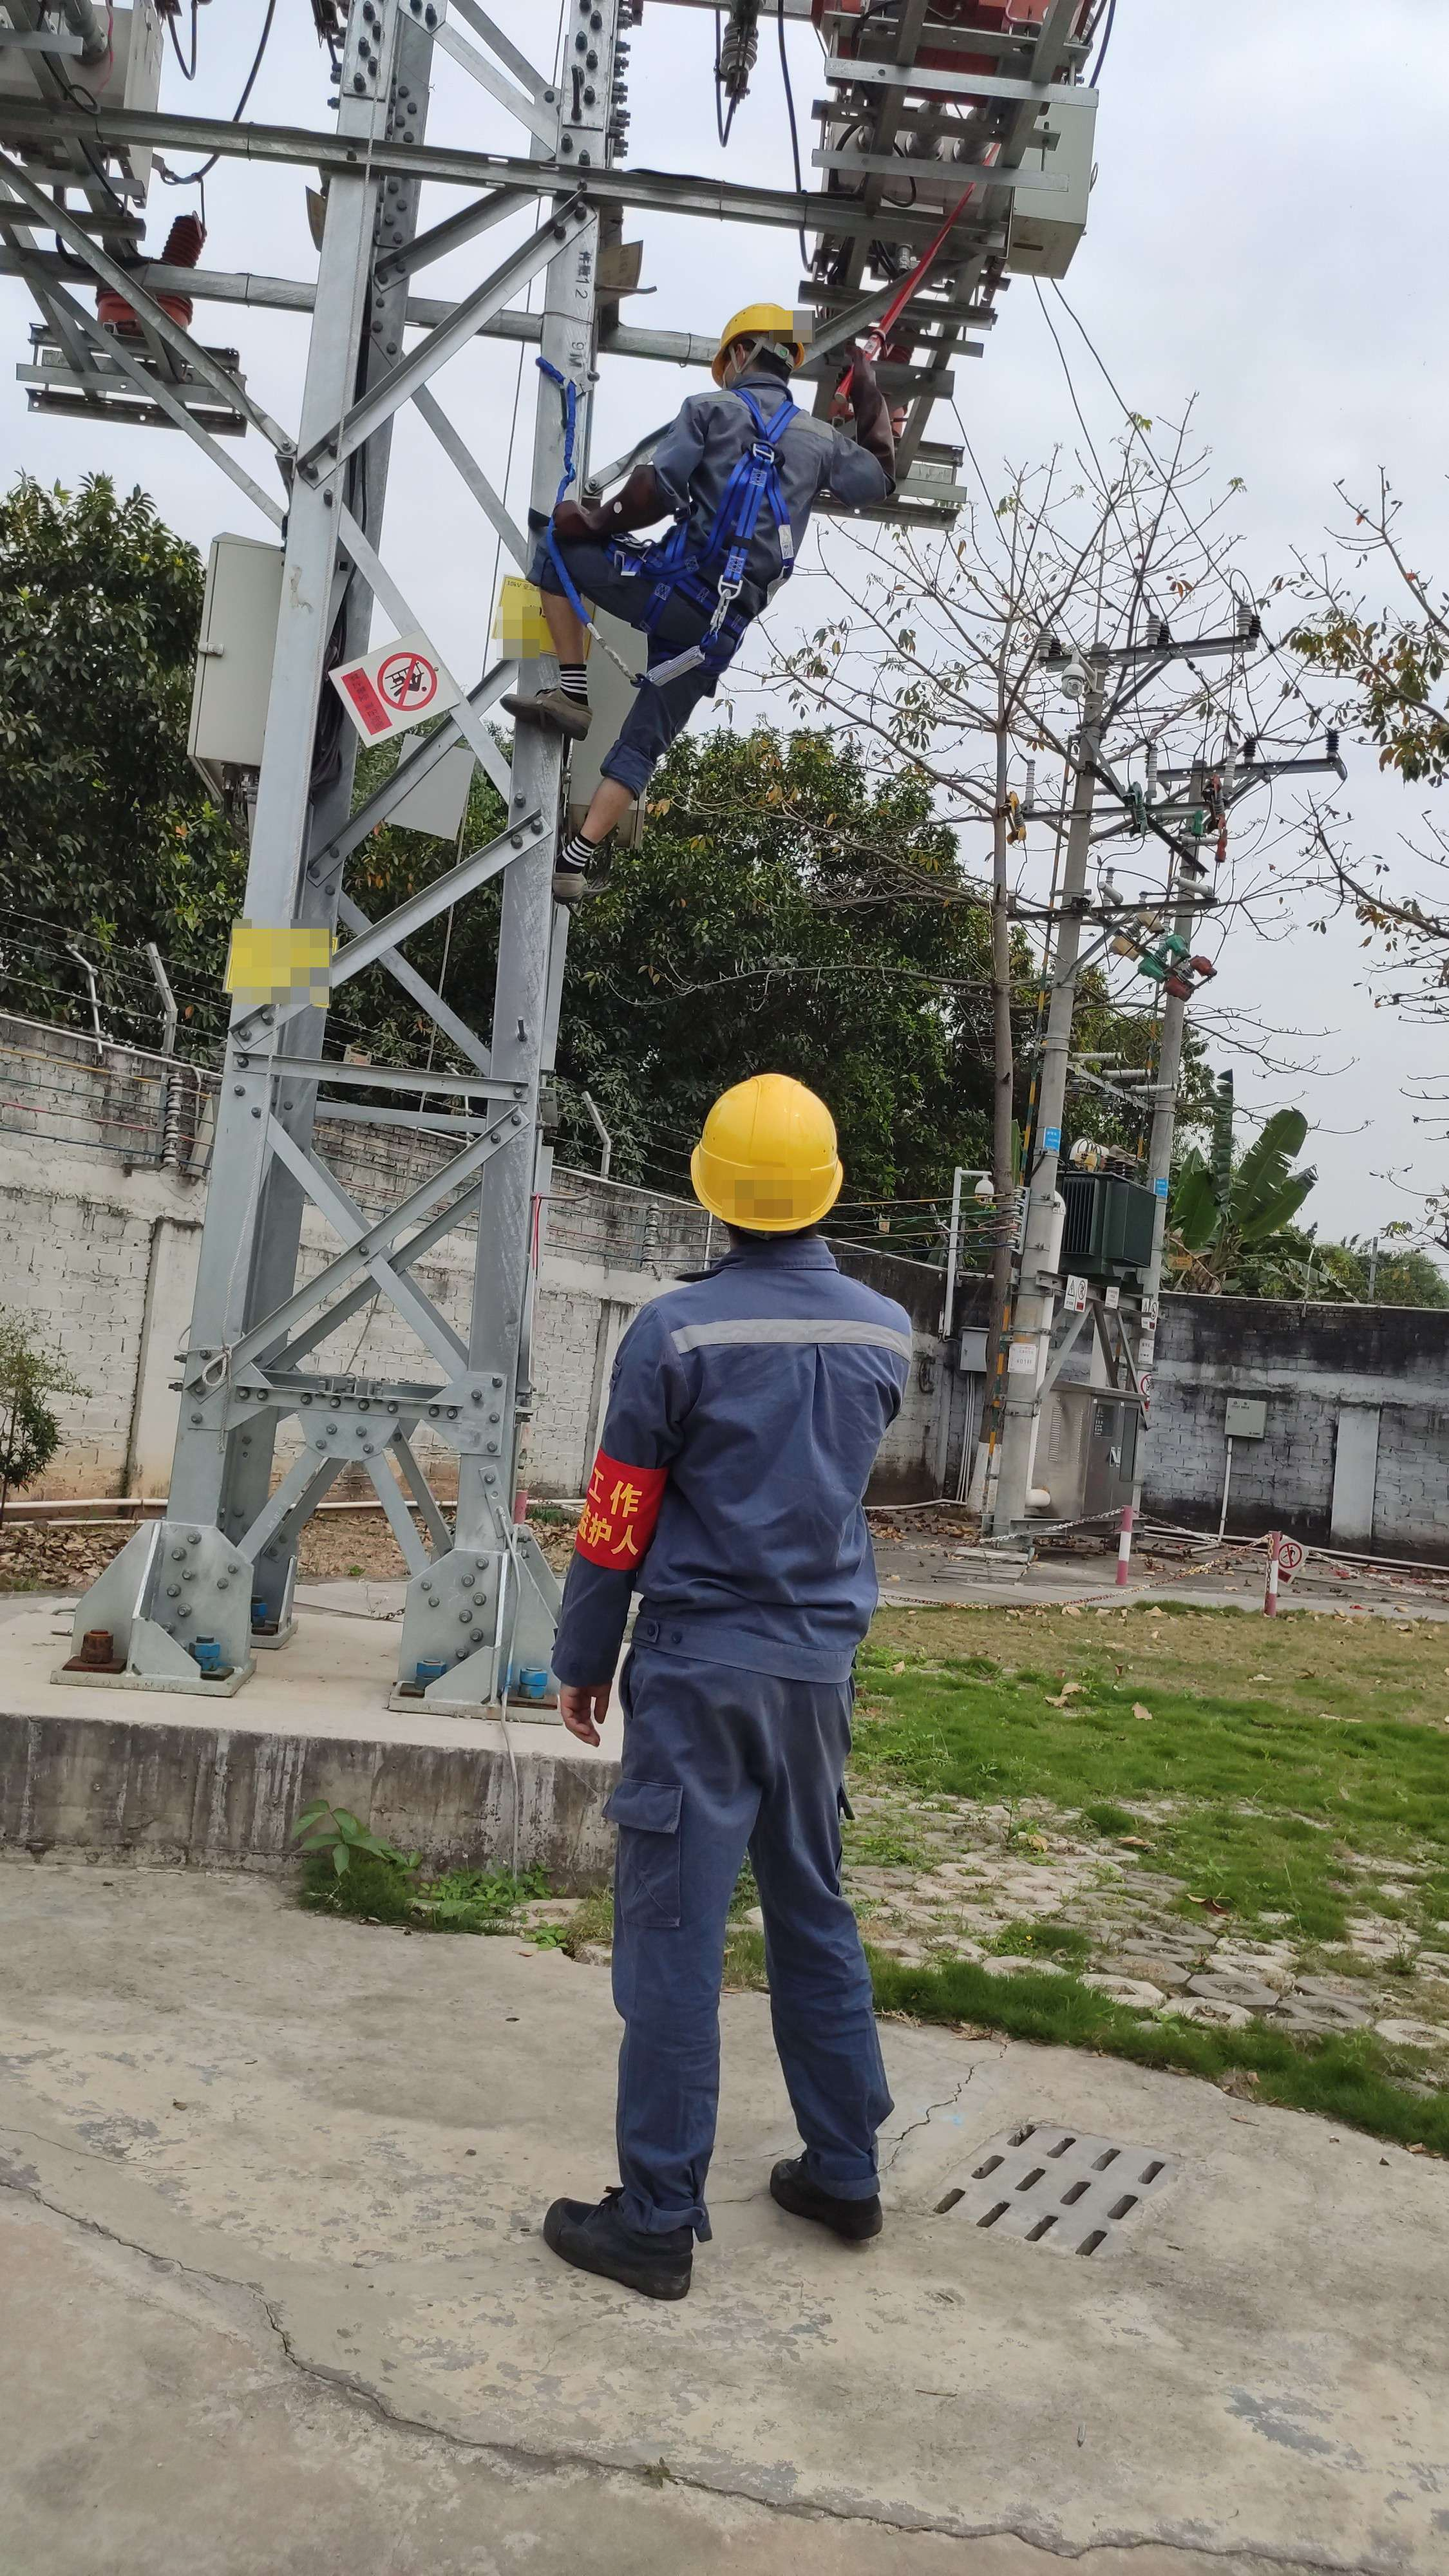downsuit: (586, 1718, 895, 2206), (582, 593, 768, 778)
upsuit: (545, 1251, 931, 1681), (612, 372, 897, 561)
wrongbottom: (563, 724, 674, 867), (533, 527, 600, 706)
